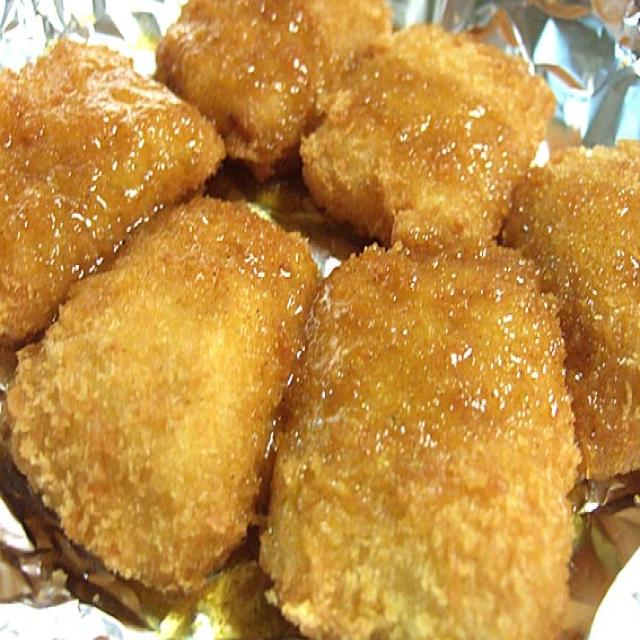炸货点心: (0, 10, 640, 640)
熟制海鲜: (0, 10, 640, 640)
